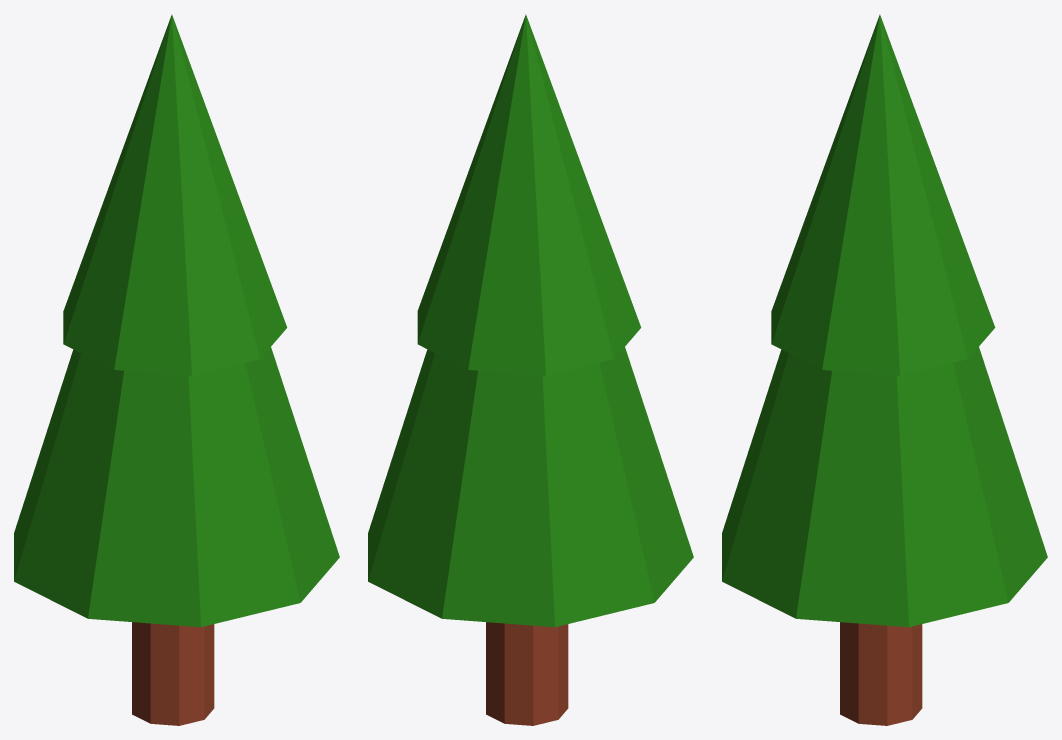
File: pinetree.fbx
3 views of the same model, side by side, from view 1: azimuth 30°, elevation 25°; view 2: azimuth 150°, elevation 25°; view 3: azimuth 270°, elevation 25° (orthographic).
Visible parts, largest first — view 1: Cone; view 2: Cone; view 3: Cone.
Part boxes in pixels (x1=…): Cone: x1=14, y1=14, x2=339, y2=725; Cone: x1=368, y1=14, x2=693, y2=725; Cone: x1=722, y1=14, x2=1047, y2=725.
Size of the model in its own units: 287 by 664 by 282.
